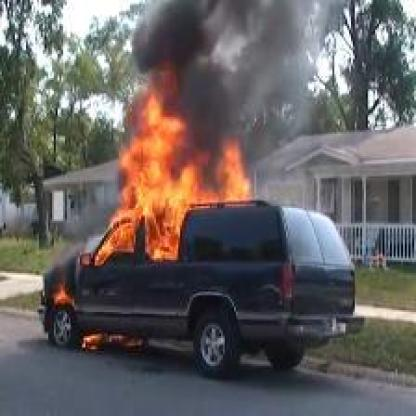fire: (87, 59, 249, 262), (78, 330, 141, 353), (46, 283, 72, 306)
smoke: (125, 4, 318, 172)
